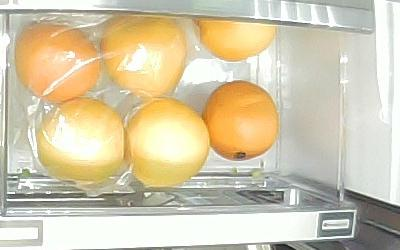grapefruit: (126, 98, 211, 187), (203, 80, 280, 161), (191, 17, 276, 63)
grapefruit_vinyl: (35, 97, 125, 185), (100, 13, 188, 100), (15, 21, 100, 103)
